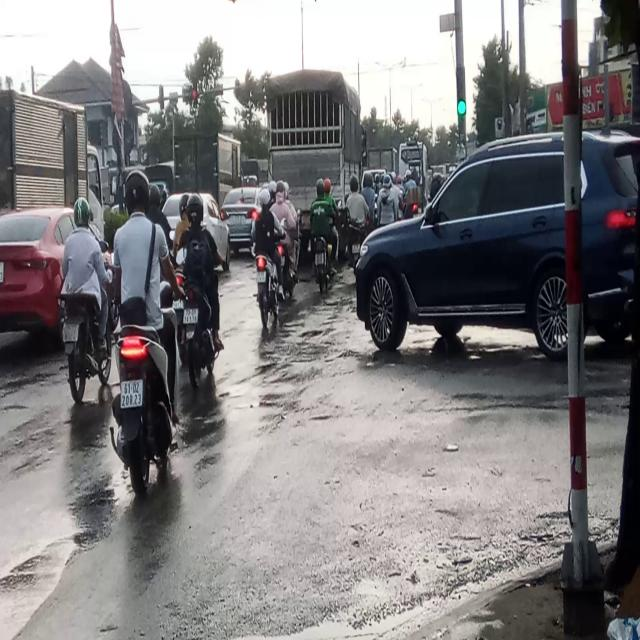bien_trang: (119, 376, 144, 411)
